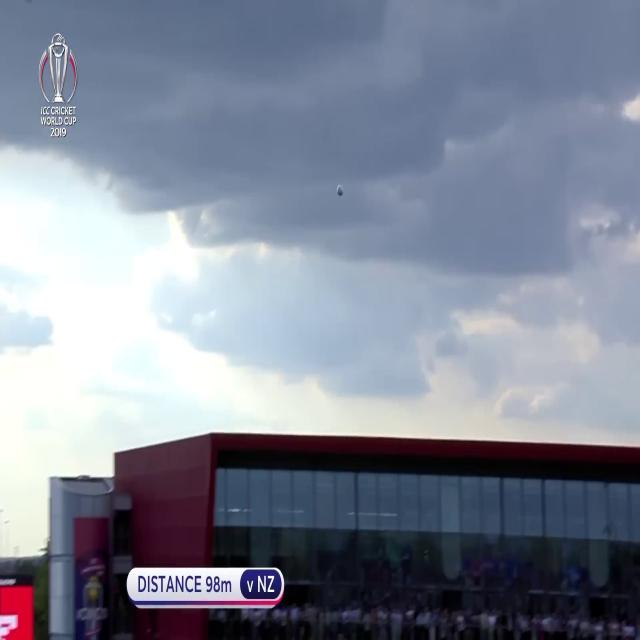ball: (336, 184, 346, 198)
